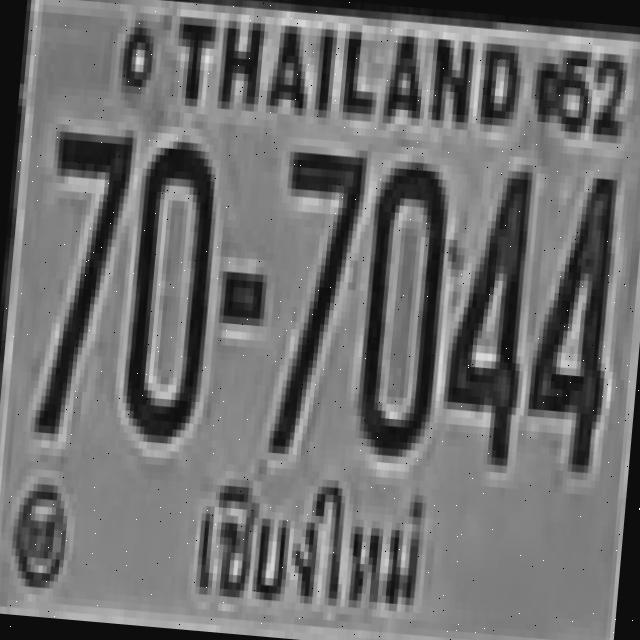0: (119, 131, 218, 438), (350, 152, 448, 452)
4: (522, 166, 620, 466), (440, 160, 534, 458)
7: (264, 144, 364, 451), (32, 124, 132, 430)
ChiangMai: (177, 460, 445, 638)
